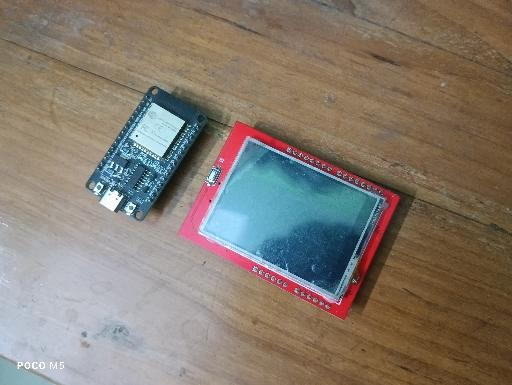Display: (177, 120, 400, 322)
Esp32: (84, 85, 207, 222)
